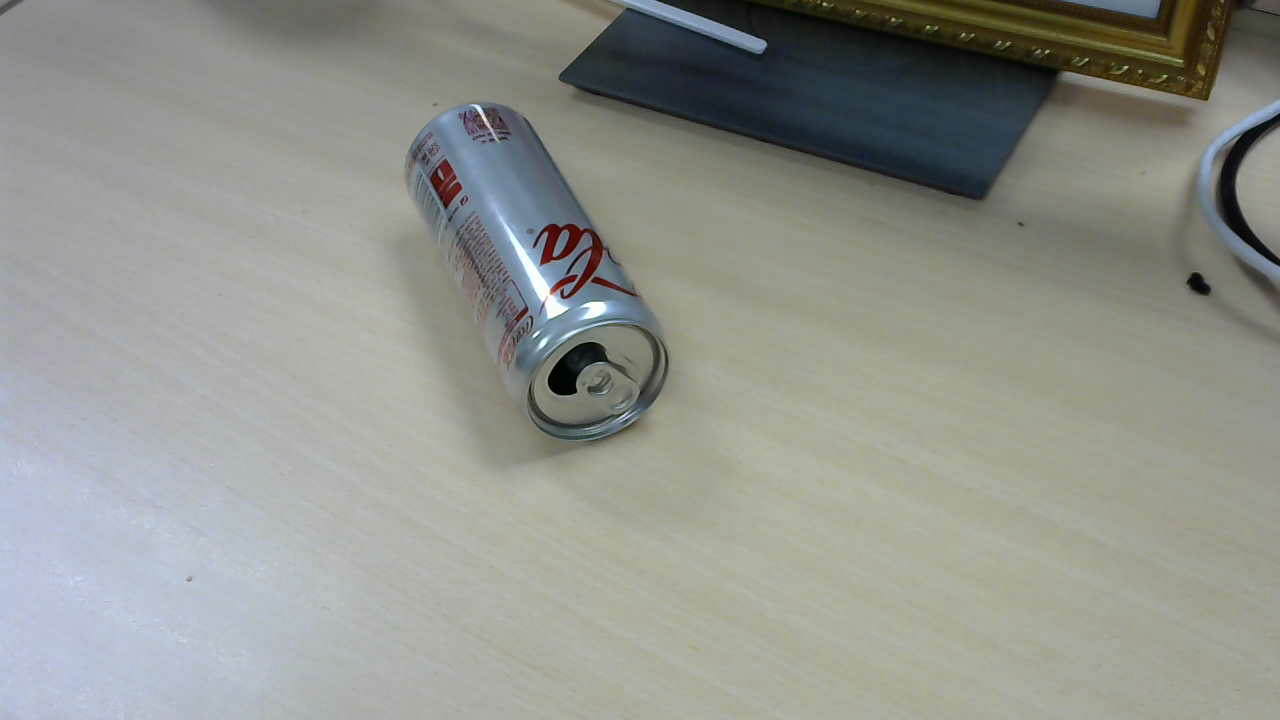Coca_Cola: (405, 108, 678, 449)
